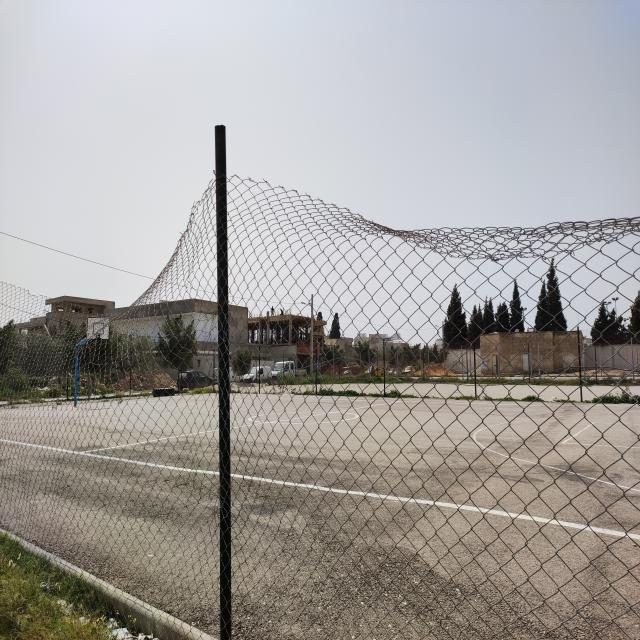fence line: (9, 210, 216, 310), (368, 207, 634, 257)
